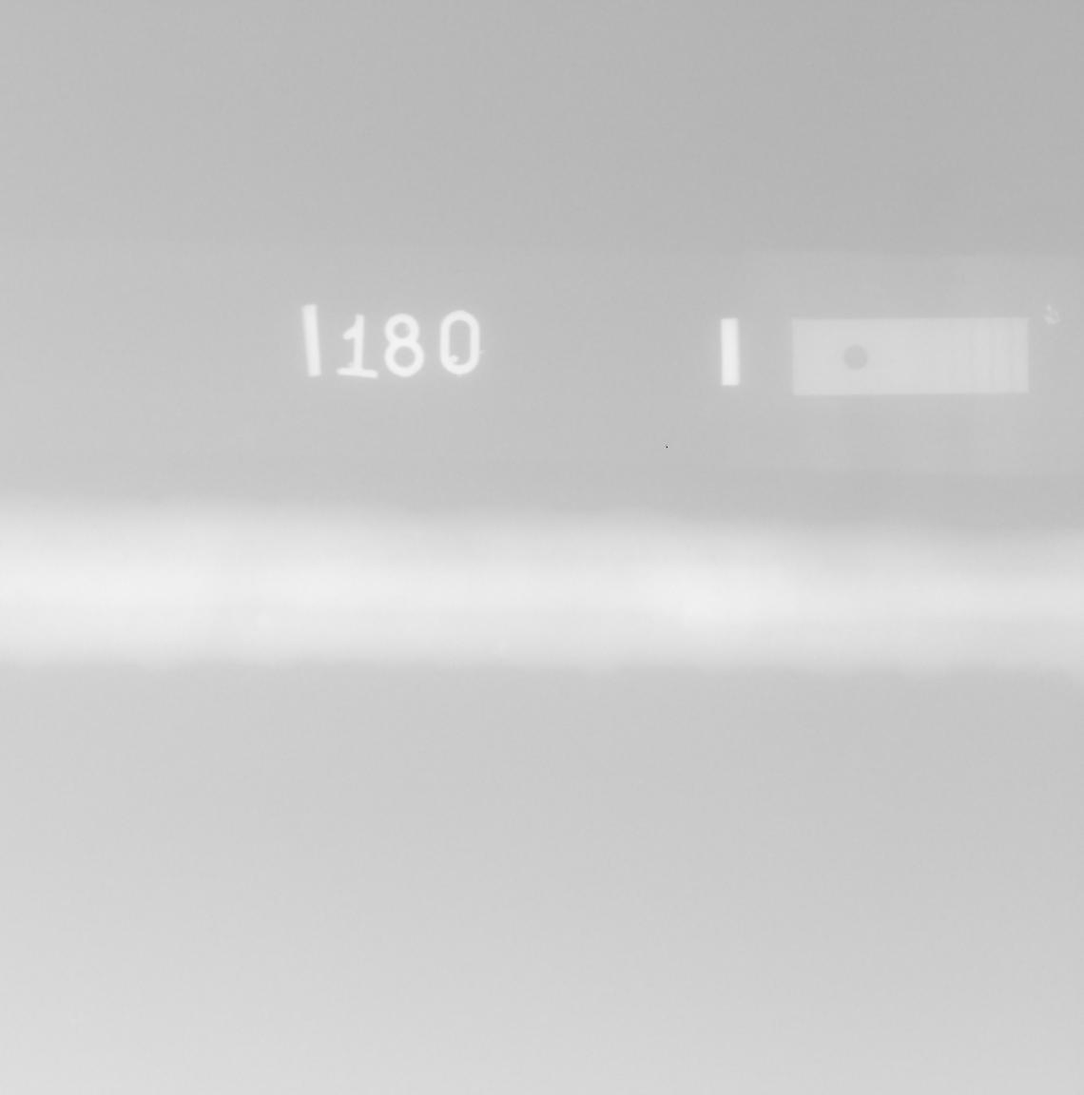Reference Standard 1: (792, 317, 1029, 395)
